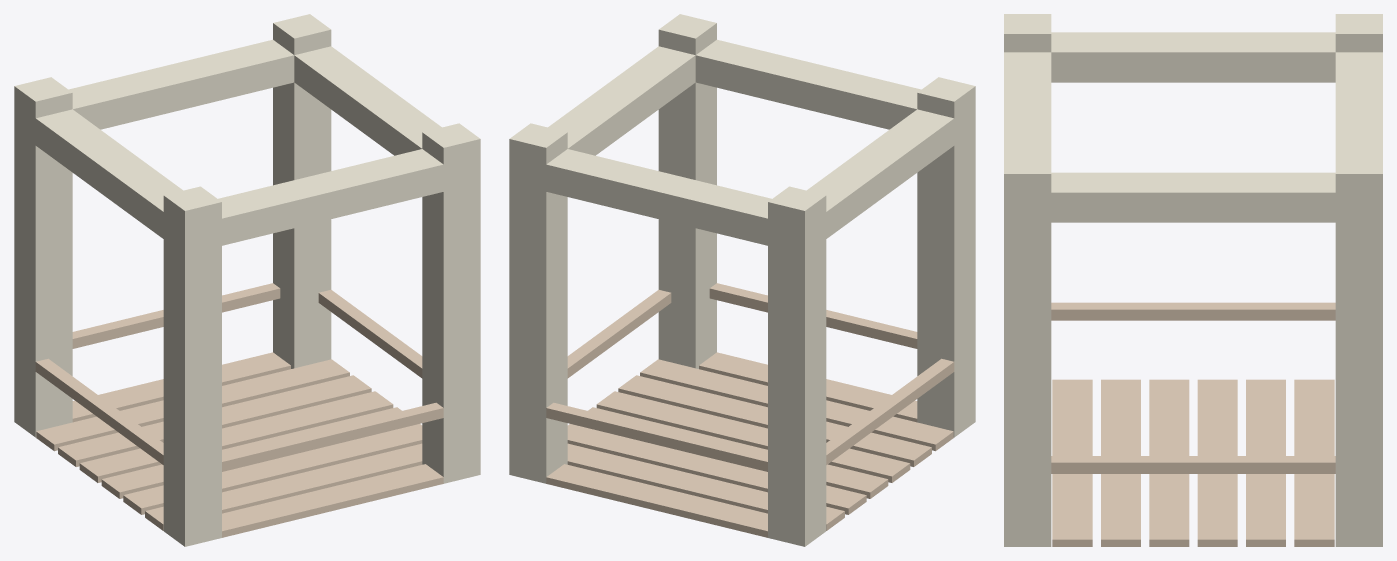
File: towerSquareMidOpen.glb
3 renders of one model, left to right at view 1: azimuth 30°, elevation 25°; view 2: azimuth 150°, elevation 25°; view 3: azimuth 270°, elevation 25°, orthographic. The views are drawn at different scales.
Visible parts, largest first — view 1: towerSquareMidOpen; view 2: towerSquareMidOpen; view 3: towerSquareMidOpen.
Boxes of the visible parts, x1,y1,x2,y2 form: towerSquareMidOpen: [14, 14, 480, 546]; towerSquareMidOpen: [509, 14, 975, 546]; towerSquareMidOpen: [1004, 14, 1382, 546].
Size of the model in its own units: 9.3 by 10.1 by 9.3.
